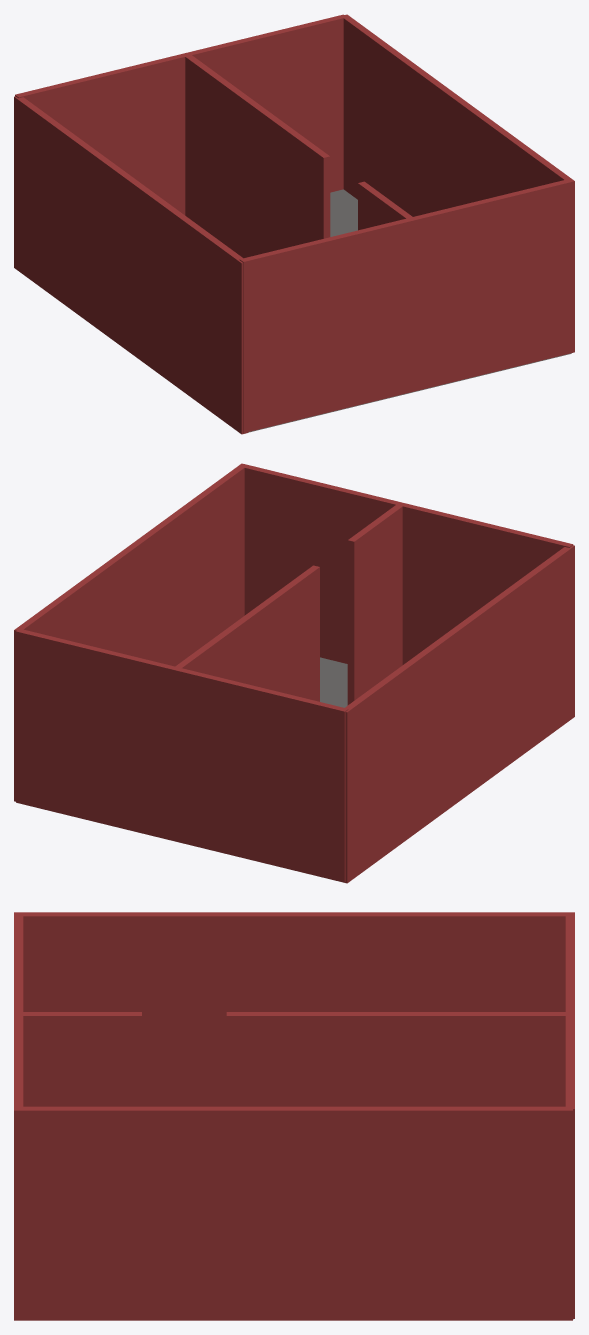
The model's file is room.fbx.
3 views of the same model, one above another, from view 1: azimuth 30°, elevation 25°; view 2: azimuth 150°, elevation 25°; view 3: azimuth 270°, elevation 25° (orthographic). The views are drawn at different scales.
Visible parts, largest first — view 1: pCube35, pCube34, pCube20, pCube21, pCube5, pPlane1, pCube6; view 2: pCube20, pCube34, pCube35, pCube21, pCube5, pCube6, pPlane1; view 3: pCube21, pCube34, pCube5, pCube6, pCube20, pCube35.
Boxes of the visible parts, x1,y1,x2,y2 form: pCube35: (239, 180, 572, 433); pCube34: (14, 96, 248, 434); pCube20: (15, 14, 346, 215); pCube21: (342, 14, 574, 352); pCube5: (185, 54, 330, 258); pPlane1: (248, 189, 571, 432); pCube6: (358, 181, 413, 230); pCube20: (16, 629, 348, 882); pCube34: (345, 545, 574, 883); pCube35: (241, 464, 573, 664); pCube21: (14, 463, 247, 801); pCube5: (175, 565, 319, 701); pCube6: (347, 504, 403, 705); pPlane1: (31, 657, 347, 867); pCube21: (14, 1106, 572, 1320); pCube34: (23, 912, 565, 1106); pCube5: (226, 1012, 567, 1106); pCube6: (20, 1012, 141, 1106); pCube20: (565, 912, 574, 1318); pCube35: (14, 912, 23, 1108).
Size of the model in its own units: 50.69 by 25.02 by 60.24.
